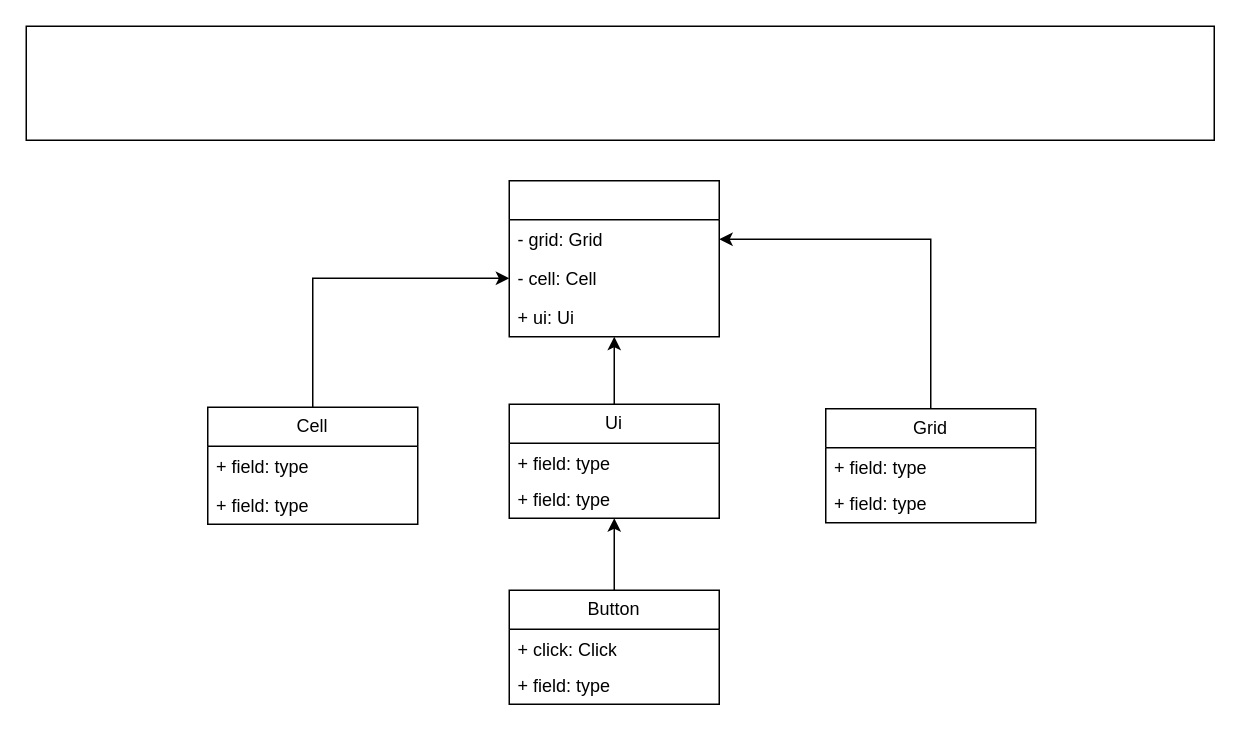
Some shapes in this 1241 by 735 pixel diagram are drawn without their labels. The box of each missing label's shape, as (x1, y1, x2, y2) in pixels:
Conway's Game of Life (Alpha Version): (25, 25, 1214, 140)
GameOfLife: (508, 179, 719, 337)
